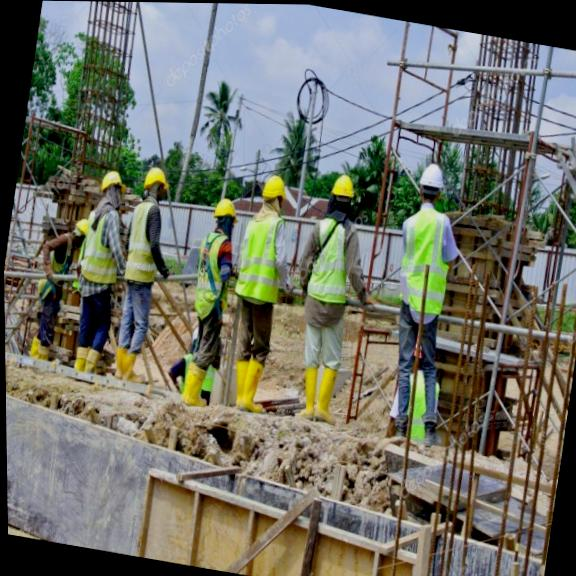safety_vest: (394, 208, 465, 323), (232, 211, 293, 314), (302, 212, 359, 308), (120, 200, 166, 292), (77, 214, 123, 285)
